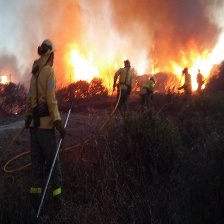fire: (29, 1, 221, 54), (63, 42, 224, 90)
